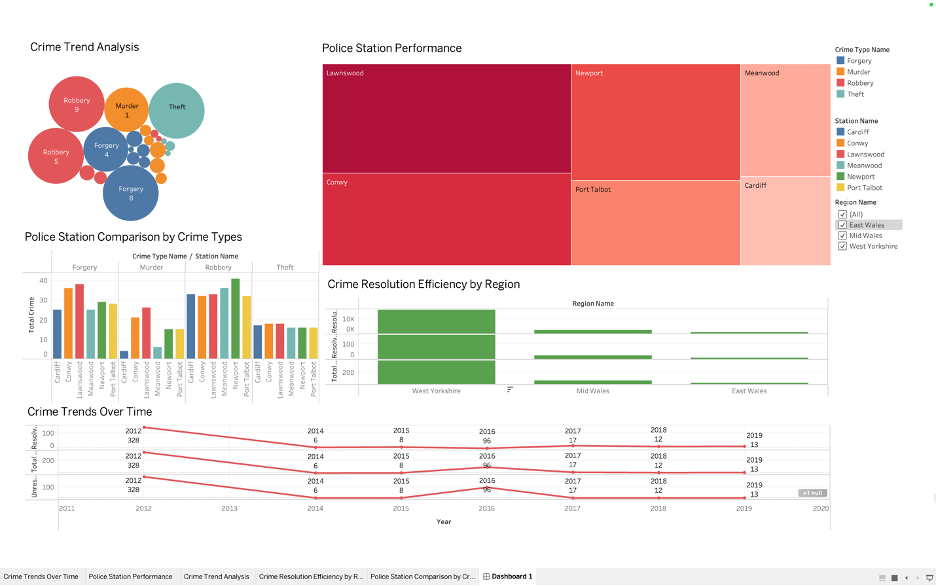

The dashboard page shown, as its layout file describes it:
{"tool":"tableau","page":{"name":"Dashboard 1","canvas":[1600,900],"ordinal":0},"visuals":[{"type":"worksheet","title":"Crime Trend Analysis","mark":"Circle","box":[10,7,476,358]},{"type":"worksheet","title":"Police Station Performance","mark":"Automatic","box":[534,9,921,412]},{"type":"legend","title":"Crime Trend Analysis","param":"[federated.01rwczx1l15uhn11uryjf0wc3ukr].[none:CRIME_TYPE_NAME:nk]","box":[1455,16,129,106]},{"type":"legend","title":"Crime Resolution Efficiency by Region","param":"[federated.01rwczx1l15uhn11uryjf0wc3ukr].[:Measure Names]","box":[1455,122,129,22]},{"type":"legend","title":"Police Station Comparison by Crime Types","param":"[federated.01rwczx1l15uhn11uryjf0wc3ukr].[none:STATION_NAME:nk]","box":[1455,144,129,146]},{"type":"filter","title":"Crime Trends Over Time","param":"[federated.01rwczx1l15uhn11uryjf0wc3ukr].[none:REGION_NAME:nk]","box":[1455,290,129,108]},{"type":"worksheet","title":"Police Station Comparison by Crime Types","mark":"Automatic","rows":["TOTAL_CRIME"],"cols":["CRIME_TYPE_NAME","STATION_NAME"],"box":[0,348,546,317]},{"type":"worksheet","title":"Crime Resolution Efficiency by Region","mark":"Automatic","rows":["Calculation_1057783000512385024","RESOLVED_CRIME","TOTAL_CRIME"],"cols":["REGION_NAME"],"box":[544,433,903,219]},{"type":"worksheet","title":"Crime Trends Over Time","mark":"Line","rows":["RESOLVED_CRIME","TOTAL_CRIME","UNRESOLVED_CRIME"],"cols":["YEAR"],"box":[5,662,1446,231]}]}

Visuals, with their boxes on the page's 1600x900 design canvas (x1, y1, x2, y2). These are canvas units, not pixel positions in the 936x586 screenshot, which may show the page scaled, cropped or inside an application window:
"Crime Trend Analysis" worksheet (Circle marks): crop(10, 7, 486, 365)
"Police Station Performance" worksheet: crop(534, 9, 1455, 421)
"Crime Trend Analysis" legend: crop(1455, 16, 1584, 122)
"Crime Resolution Efficiency by Region" legend: crop(1455, 122, 1584, 144)
"Police Station Comparison by Crime Types" legend: crop(1455, 144, 1584, 290)
"Crime Trends Over Time" filter: crop(1455, 290, 1584, 398)
"Police Station Comparison by Crime Types" worksheet: crop(0, 348, 546, 665)
"Crime Resolution Efficiency by Region" worksheet: crop(544, 433, 1447, 652)
"Crime Trends Over Time" worksheet (Line marks): crop(5, 662, 1451, 893)
